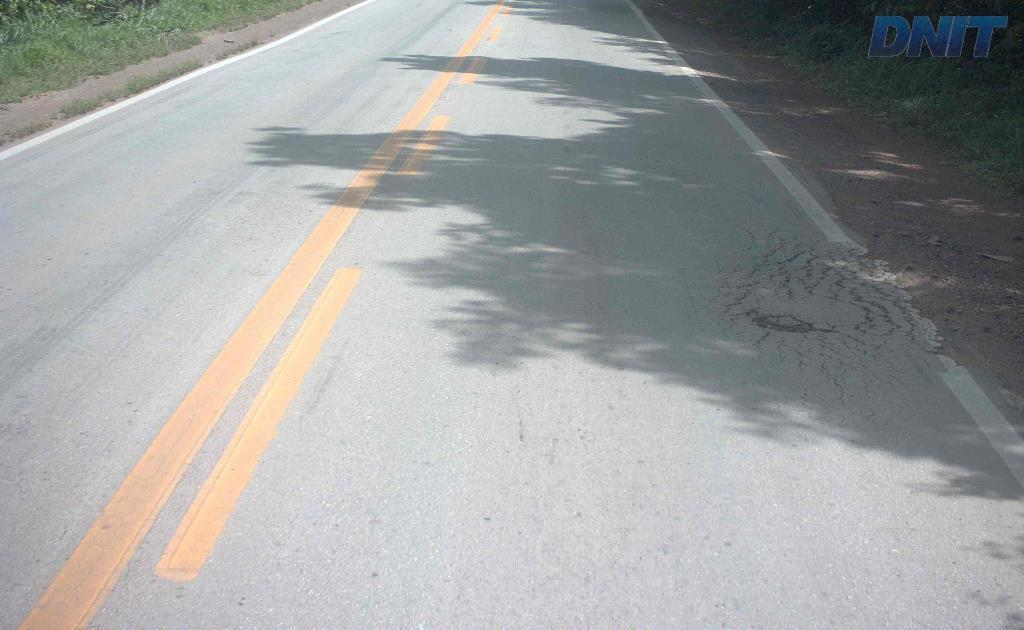crack: (735, 306, 838, 333)
pothole: (750, 311, 838, 336)
